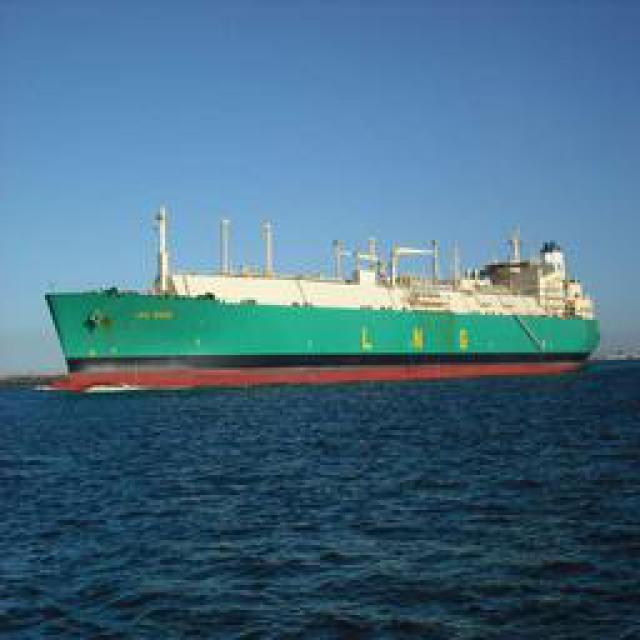Ship: (36, 210, 599, 373)
